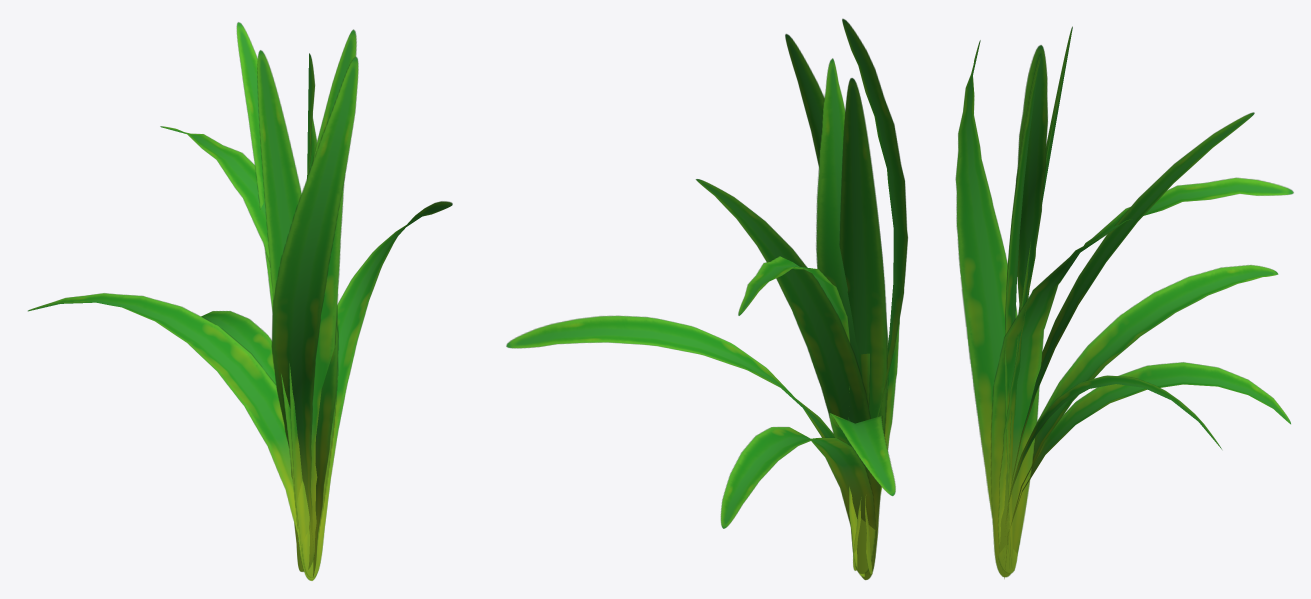
The model's file is grass_4.glb.
3 renders of one model, left to right at view 1: azimuth 30°, elevation 25°; view 2: azimuth 150°, elevation 25°; view 3: azimuth 270°, elevation 25°, orthographic. The views are drawn at different scales.
Parts seen in each view (by area): view 1: Grass_2; view 2: Grass_2; view 3: Grass_2.
Part boxes in pixels (x1=…): Grass_2: x1=28, y1=22, x2=452, y2=580; Grass_2: x1=506, y1=18, x2=907, y2=580; Grass_2: x1=955, y1=26, x2=1293, y2=578.
Size of the model in its own units: 0.0298 by 0.0352 by 0.0196.
1 material, 1 textured.
